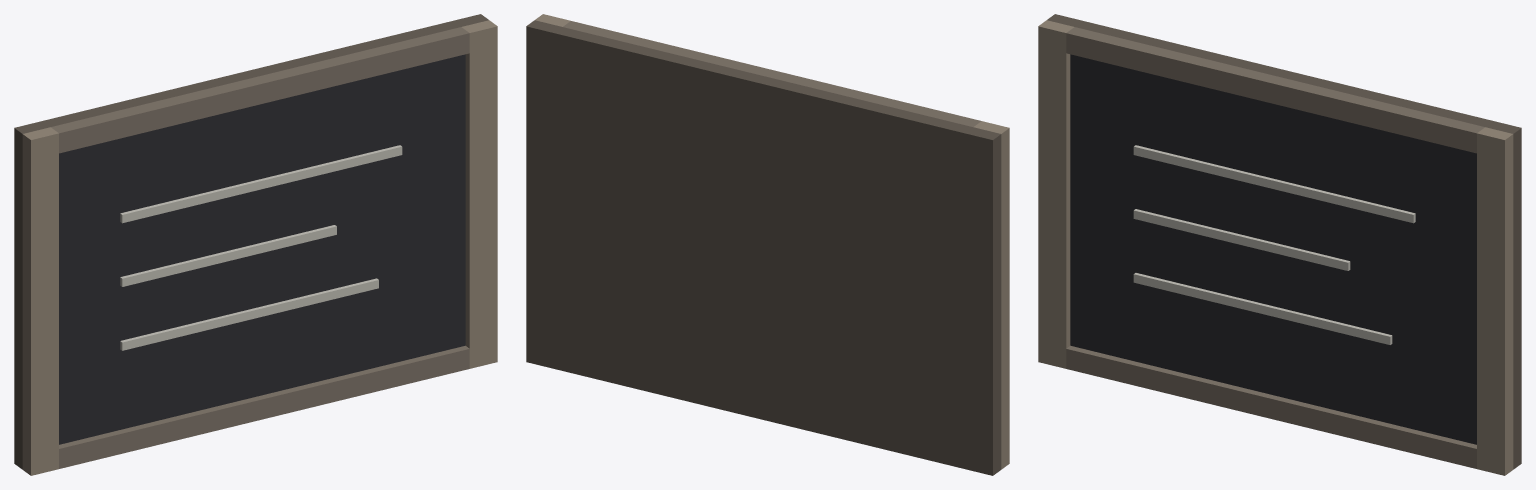
File: class_slate.glb
3 views of the same model, side by side, from view 1: azimuth 30°, elevation 25°; view 2: azimuth 150°, elevation 25°; view 3: azimuth 330°, elevation 25° (orthographic).
Visible parts, largest first — view 1: class_slate; view 2: class_slate; view 3: class_slate.
Part boxes in pixels (left/top/right/bottom): class_slate: left=14, top=14, right=497, bottom=475; class_slate: left=526, top=14, right=1009, bottom=475; class_slate: left=1038, top=14, right=1521, bottom=475.
Bounding box in the file's own units: 0.8 × 0.55 × 0.05.
